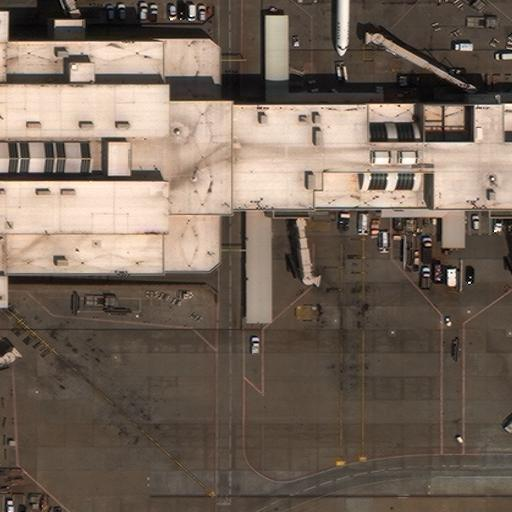Medium Civil Transport: (301, 0, 383, 61)
